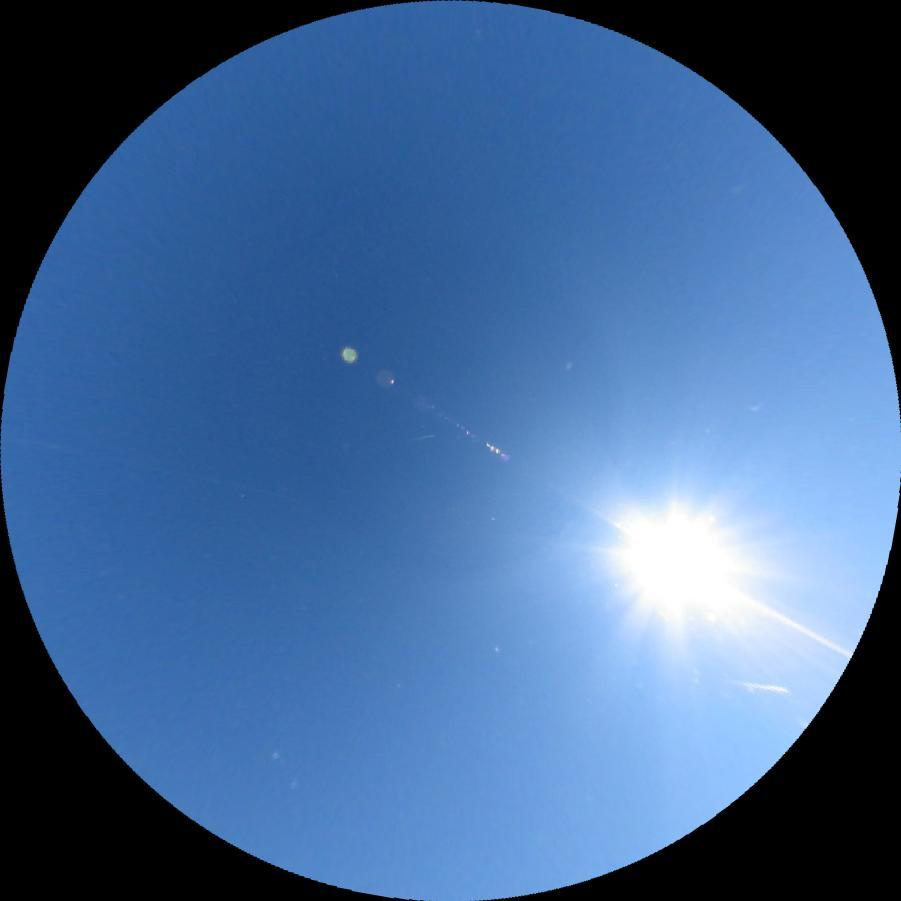contrail young: (721, 678, 790, 693), (411, 433, 437, 441)
parasite: (743, 594, 854, 657)
sun: (599, 476, 759, 647)
